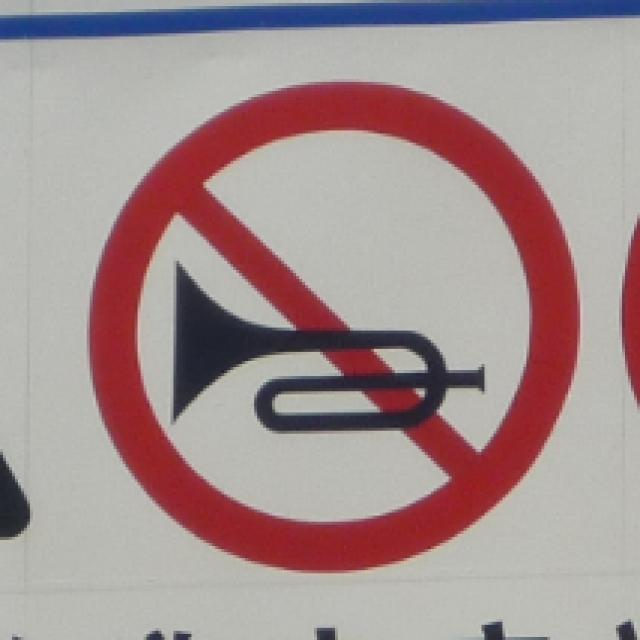No Horn: (87, 71, 586, 573)
